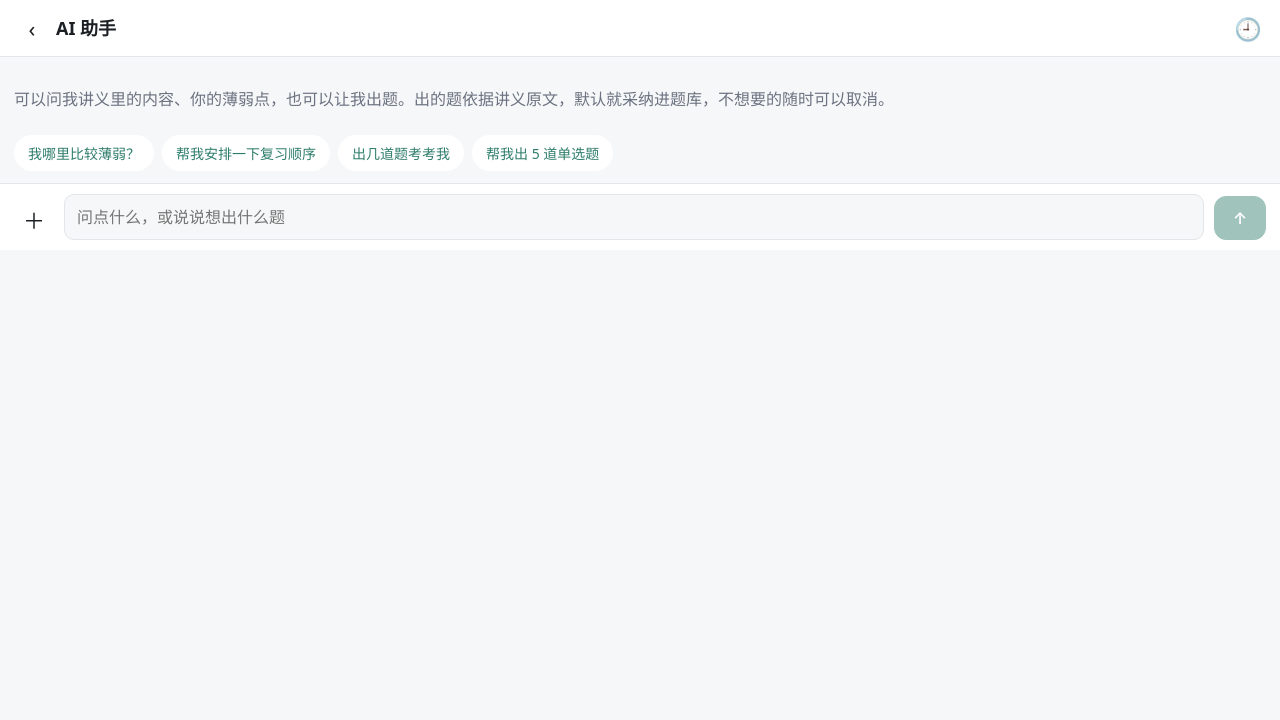
study assistant › AgentView › question-writing › a long run of questions is one card: a line each, opened one at a time, all at once on request
The image size is (1280, 720).
Click the button with class "chip" showing "帮我出 5 道单选题": (543, 153) [472, 135, 613, 171]
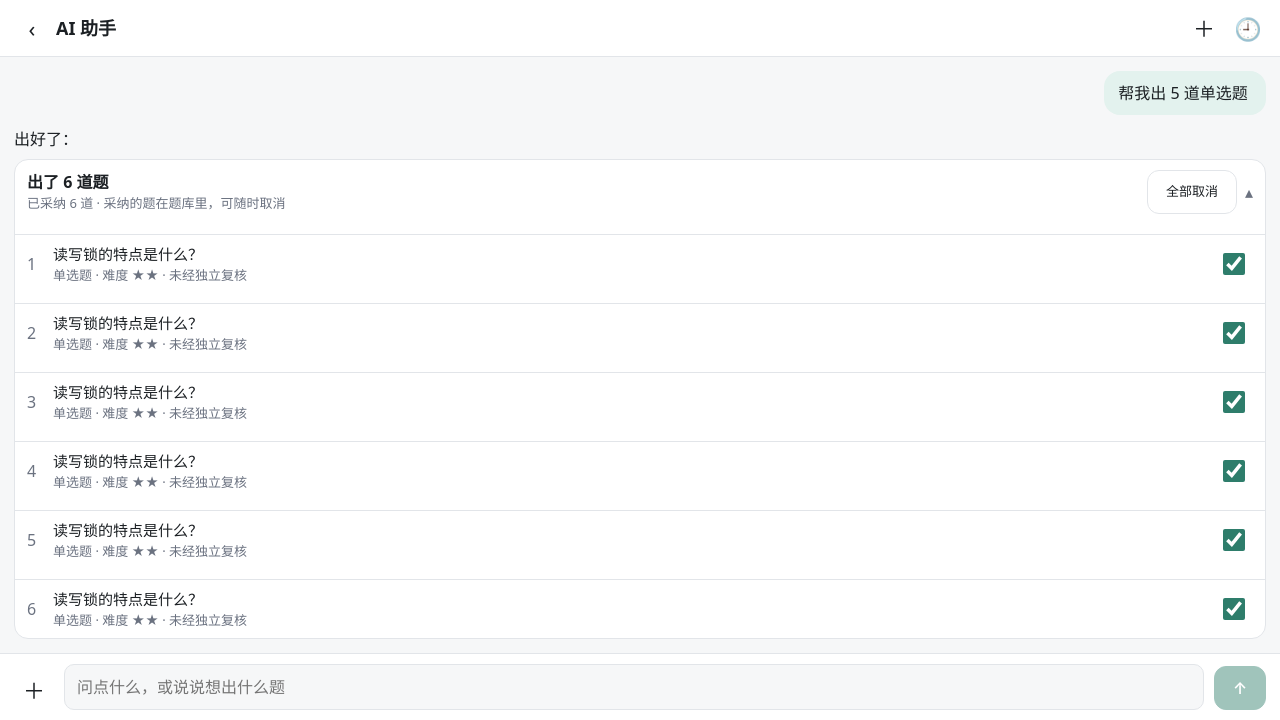
Expected: the element with test id "draft-group" shows "出了 6 道题", [27, 171, 108, 193]
Click the element with test id "draft-row-D3": (128, 392) [15, 373, 1265, 431]
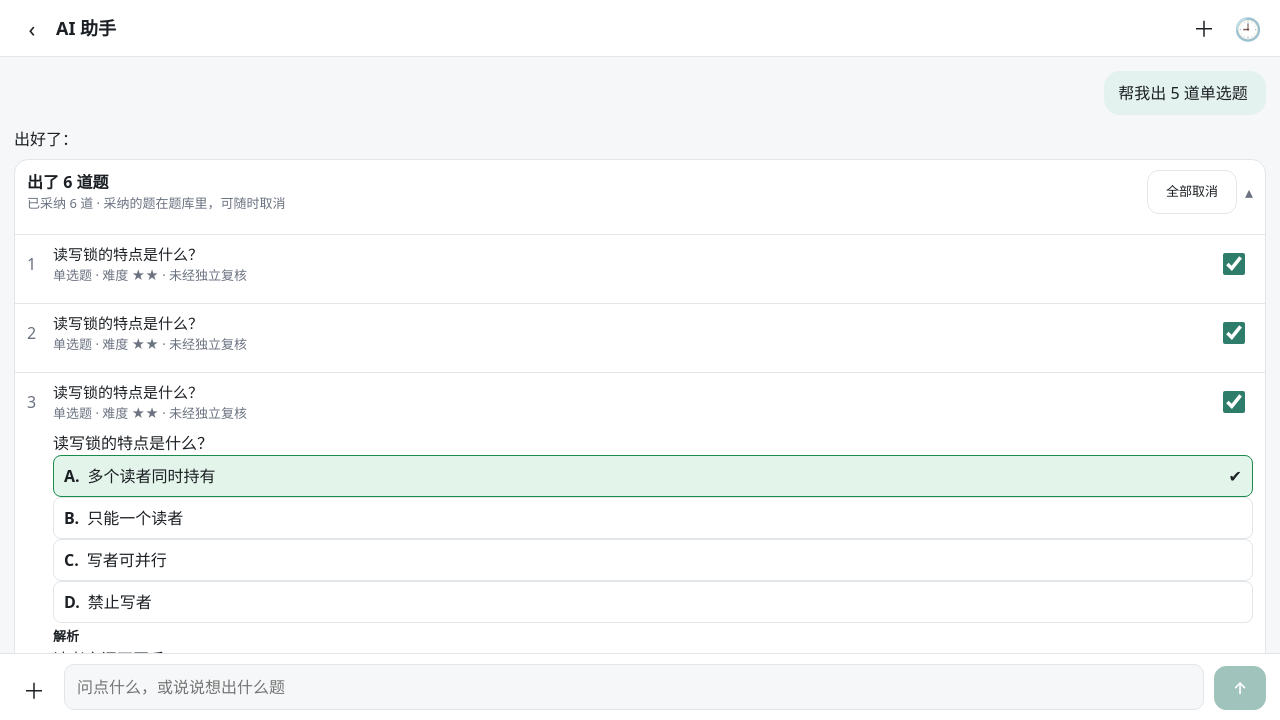
Expected: the element with class "draft-opt" showing "A. 多个读者同时持有 ✔" is shown, [53, 455, 1253, 497]
Click the element with test id "draft-row-D3": (128, 392) [15, 373, 1265, 431]
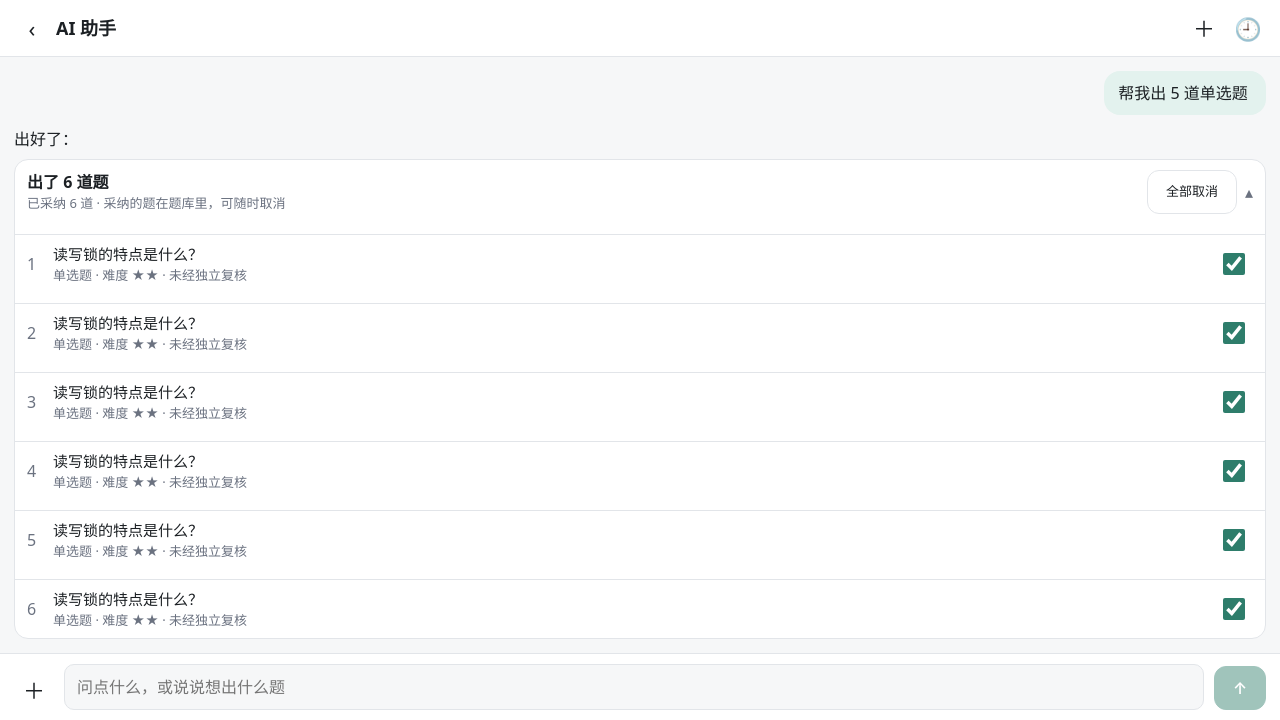
Expected: no elements with class "draft-opt" are shown
Click the button with test id "drafts-all": (1192, 192) [1147, 170, 1237, 214]
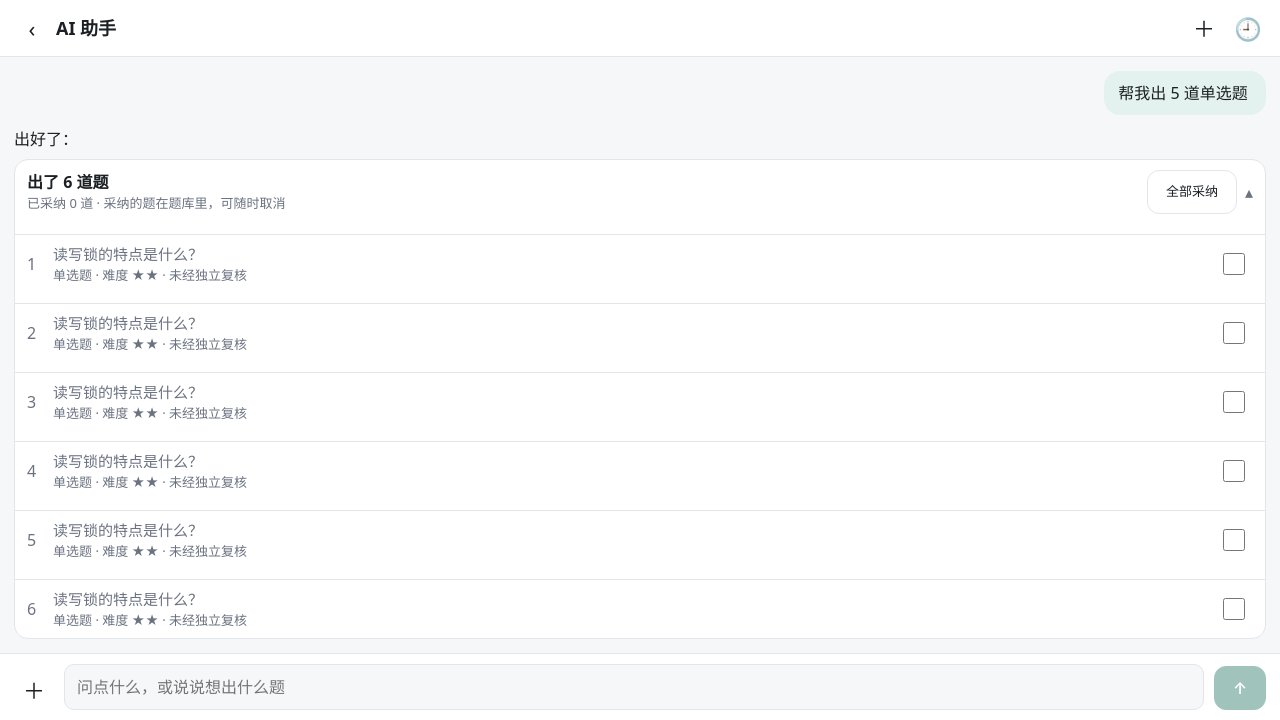
Expected: the button with test id "drafts-all" reads "全部采纳"
Click the button with test id "drafts-all": (1192, 192) [1147, 170, 1237, 214]
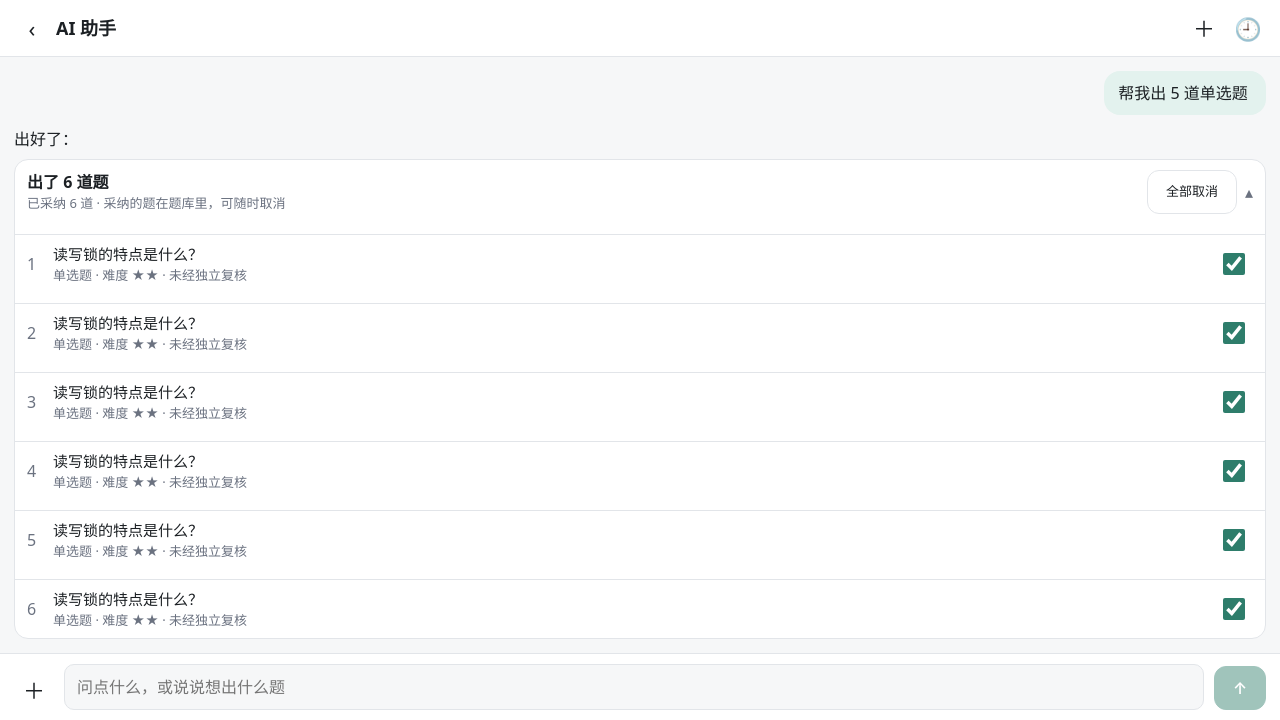
Click the element with test id "drafts-header": (68, 182) [15, 160, 1265, 224]
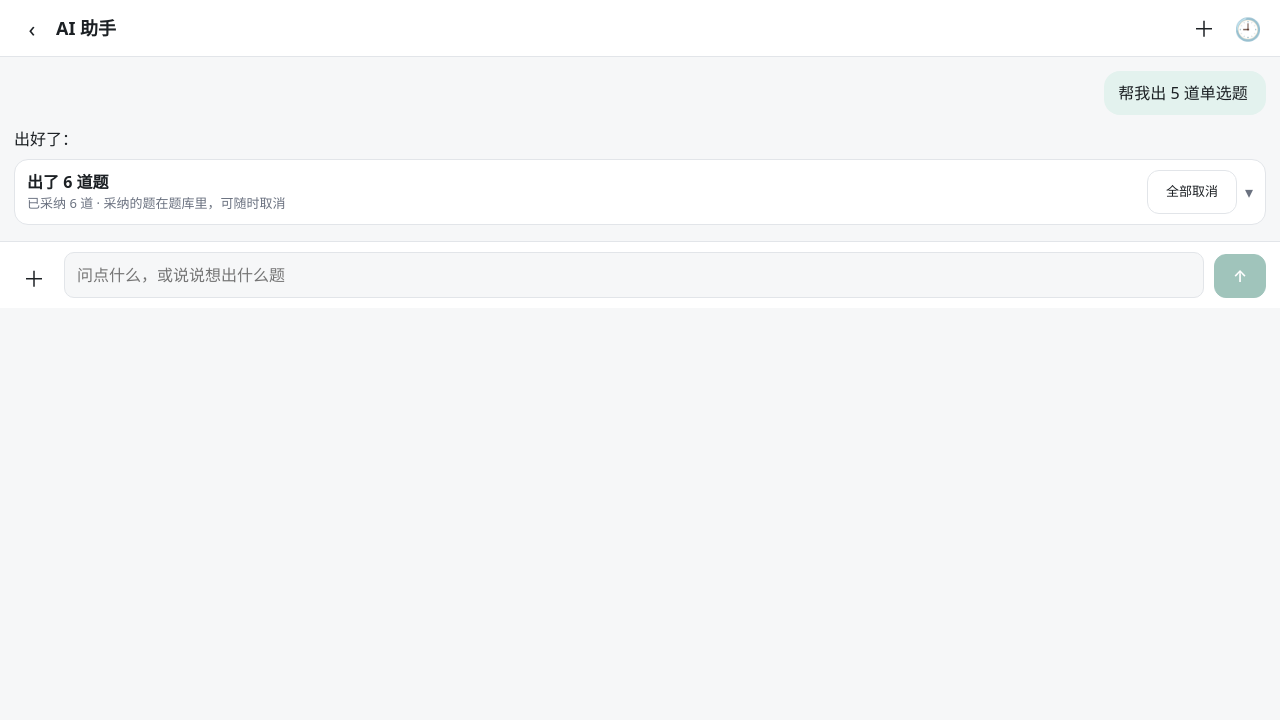
Expected: no switches with class "switch" are shown
